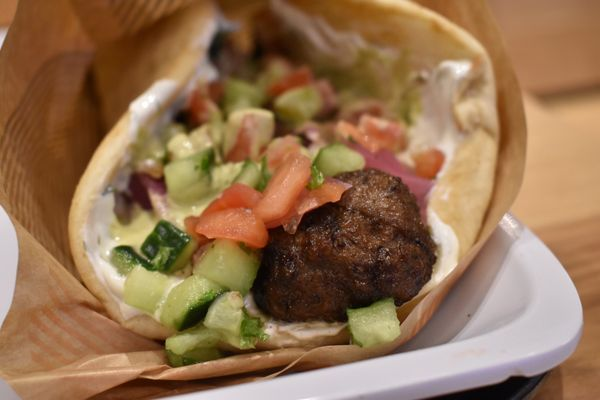sushi: (58, 6, 527, 375)
